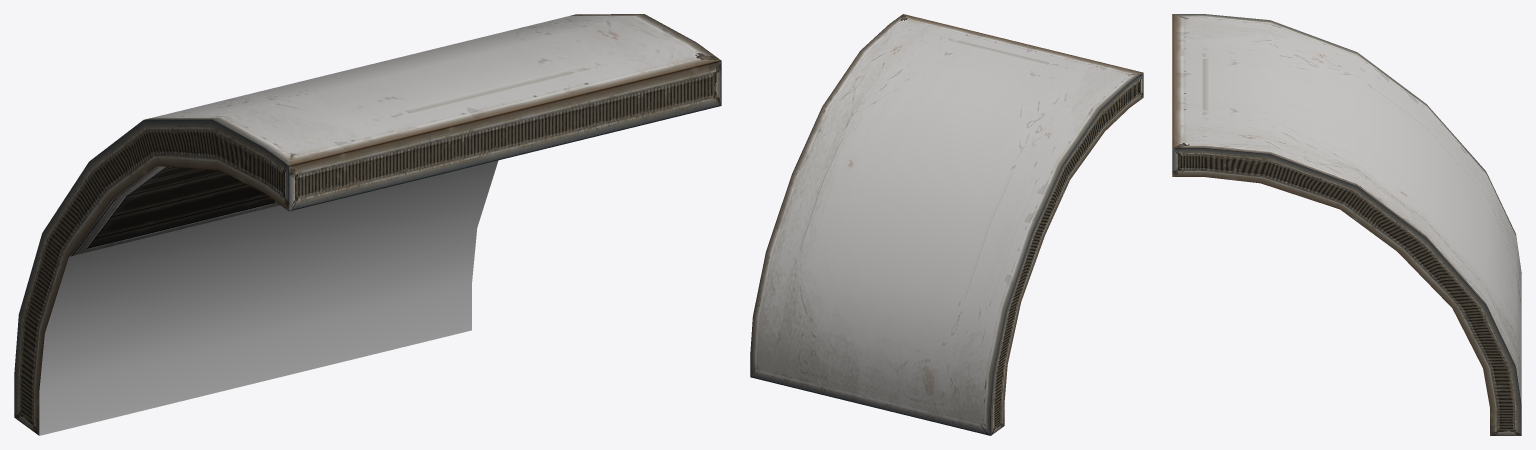
Rendered from scifi_wall_top2_2.FBX.
3 views of the same model, side by side, from view 1: azimuth 30°, elevation 25°; view 2: azimuth 150°, elevation 25°; view 3: azimuth 270°, elevation 25° (orthographic). The views are drawn at different scales.
Visible parts, largest first — view 1: Plane324; view 2: Plane324; view 3: Plane324.
Boxes of the visible parts, x1=… form: Plane324: x1=14, y1=14, x2=721, y2=435; Plane324: x1=750, y1=14, x2=1143, y2=435; Plane324: x1=1172, y1=14, x2=1521, y2=435.
Bounding box in the file's own units: 254 × 254 × 279.
